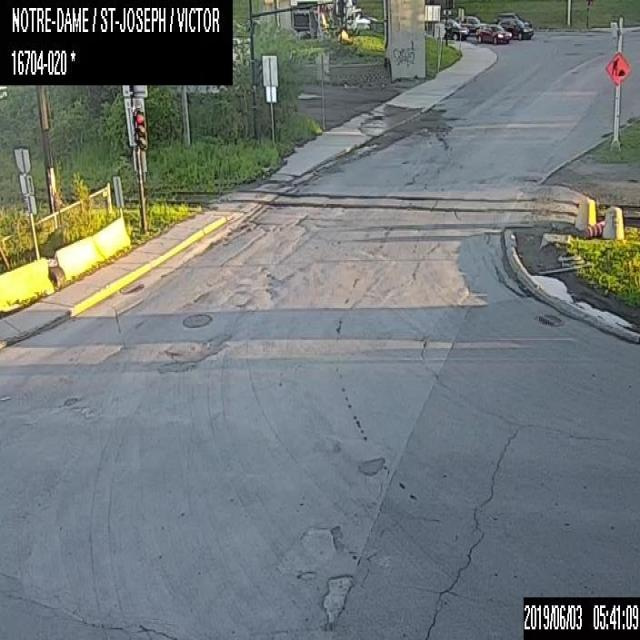construction: (605, 52, 630, 84), (582, 219, 604, 237)
vehicle: (340, 0, 371, 32), (499, 18, 533, 39), (476, 24, 510, 44), (455, 16, 486, 34), (439, 19, 467, 38), (498, 12, 530, 27)
